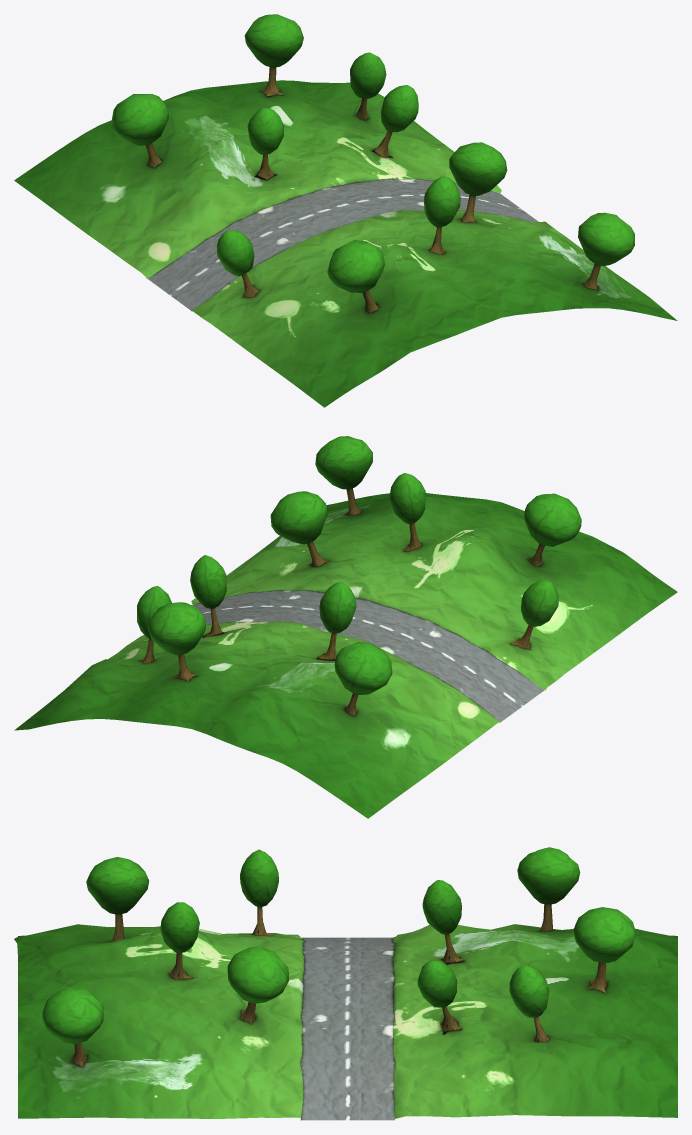
File: modulo_campagna_A.FBX
The picture shows the model from 3 angles, top to bottom: view 1: azimuth 30°, elevation 25°; view 2: azimuth 150°, elevation 25°; view 3: azimuth 270°, elevation 25°; orthographic projection. The views are drawn at different scales.
Parts seen in each view (by area): view 1: modulo_campagna_A; view 2: modulo_campagna_A; view 3: modulo_campagna_A.
Boxes of the visible parts, x1=… form: modulo_campagna_A: x1=14, y1=14, x2=677, y2=407; modulo_campagna_A: x1=14, y1=436, x2=677, y2=818; modulo_campagna_A: x1=14, y1=847, x2=677, y2=1120.
Size of the model in its own units: 203 by 73.84 by 308.
